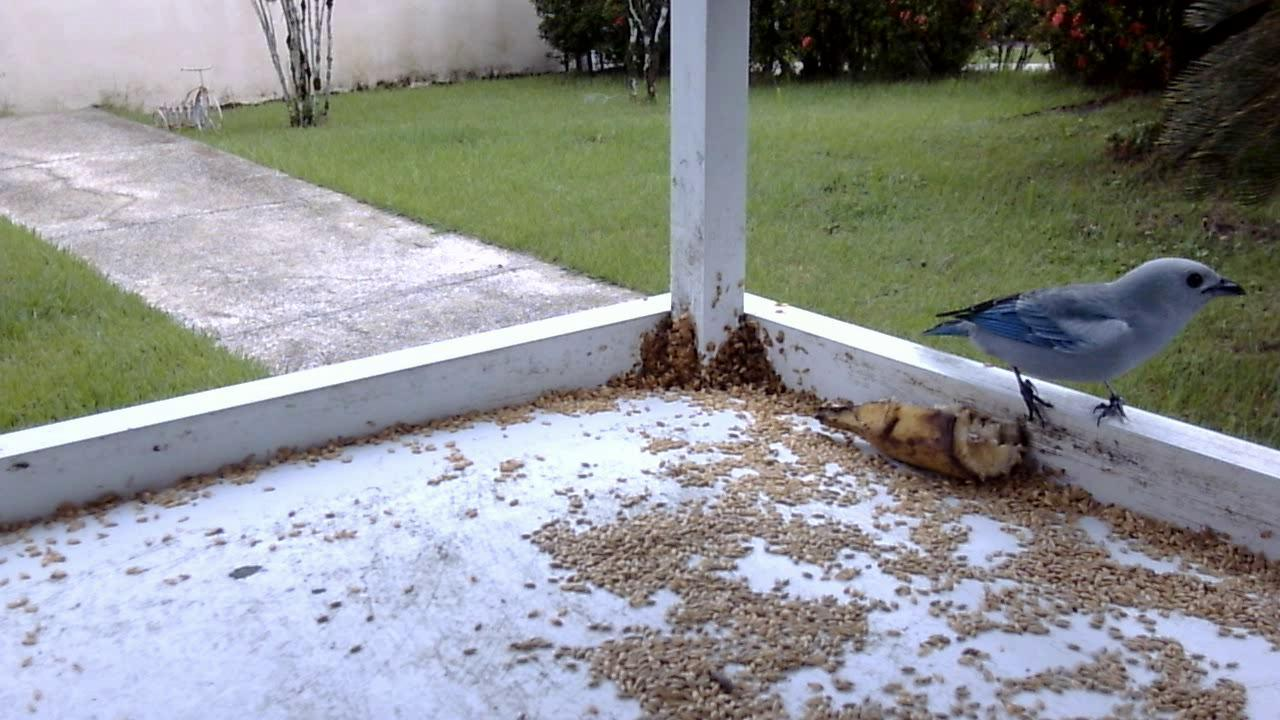sanhaco_da_amazonia: (917, 250, 1242, 437)
